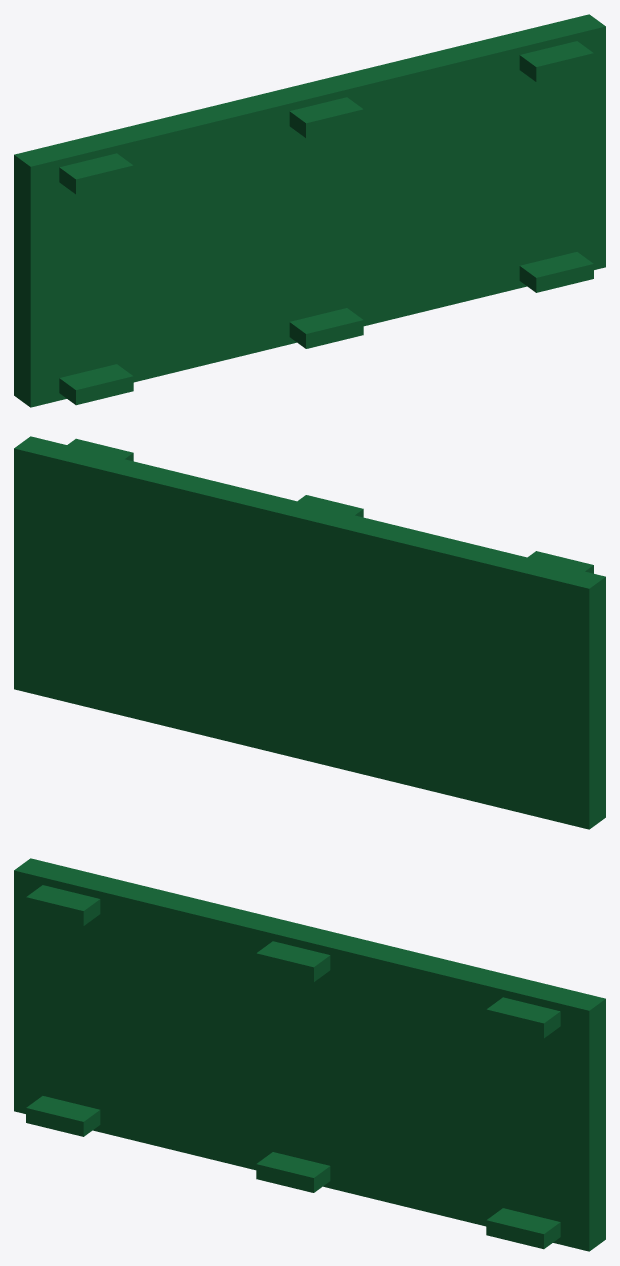
The model's file is tinker.obj.
The picture shows the model from 3 angles, top to bottom: view 1: azimuth 30°, elevation 25°; view 2: azimuth 150°, elevation 25°; view 3: azimuth 330°, elevation 25°; orthographic projection.
Visible parts, largest first — view 1: obj_0; view 2: obj_0; view 3: obj_0.
Part boxes in pixels (bbox=[...]): obj_0: bbox=[14, 14, 605, 407]; obj_0: bbox=[14, 436, 605, 829]; obj_0: bbox=[14, 858, 605, 1251].
Bounding box in the file's own units: 20 × 8 × 2.
